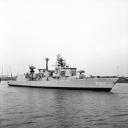Fragata: (6, 51, 122, 95)
